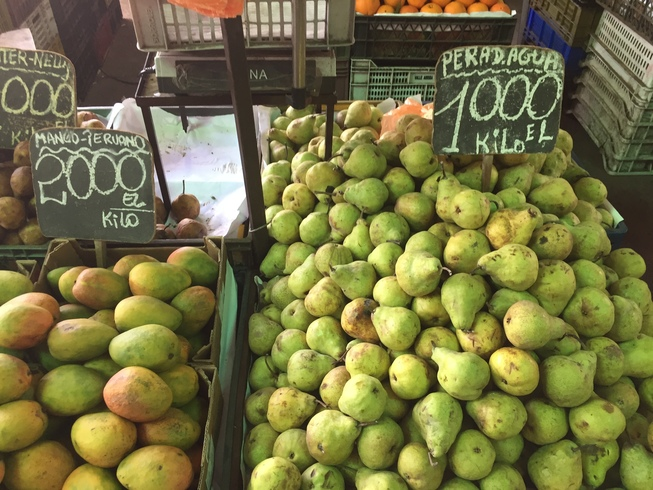precio: (433, 44, 562, 158), (35, 134, 151, 235), (1, 51, 78, 144)
